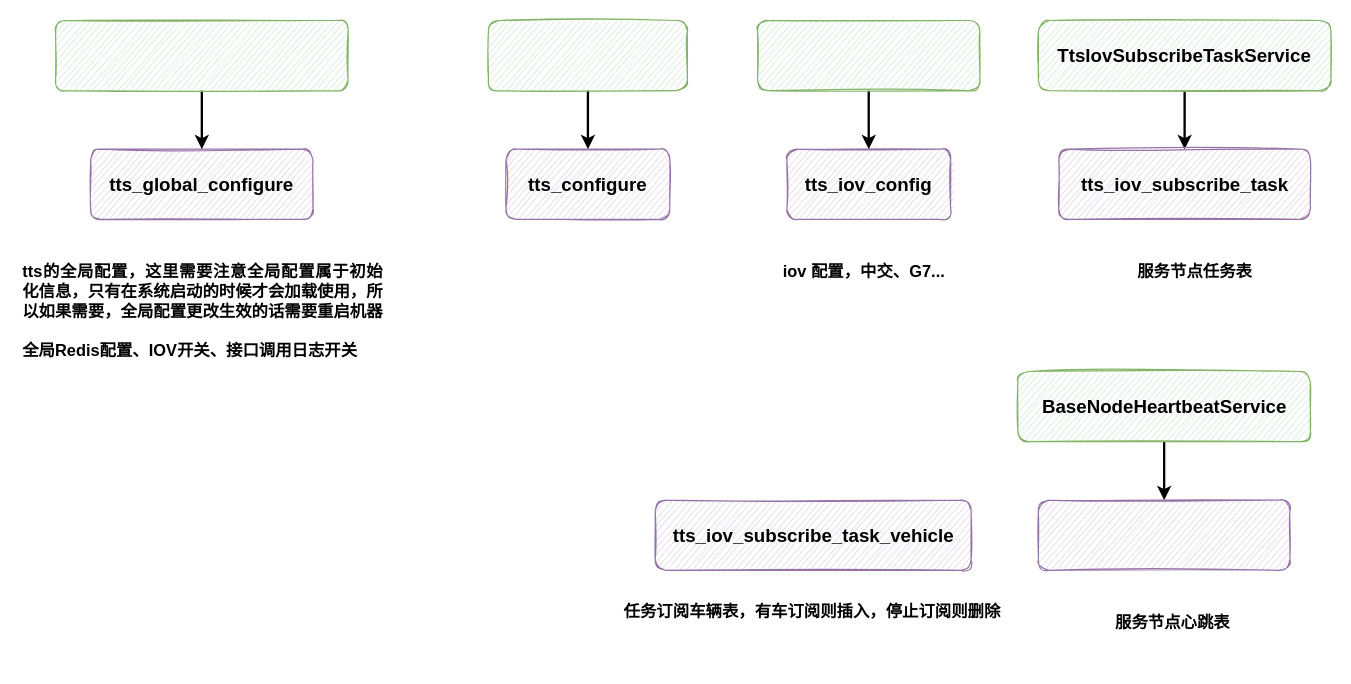
Image size: 1351x684. Some labels were removed from this diagram. Here are the shapes that lost their labels. From the top down, the centre of each, then its label:
At [201,55]: "ITtsGlobalConfigureService".
At [587,55]: "ConfigureService".
At [868,55]: "TtsIovConfigService".
At [1163,534]: "base_node_heartbeat".
